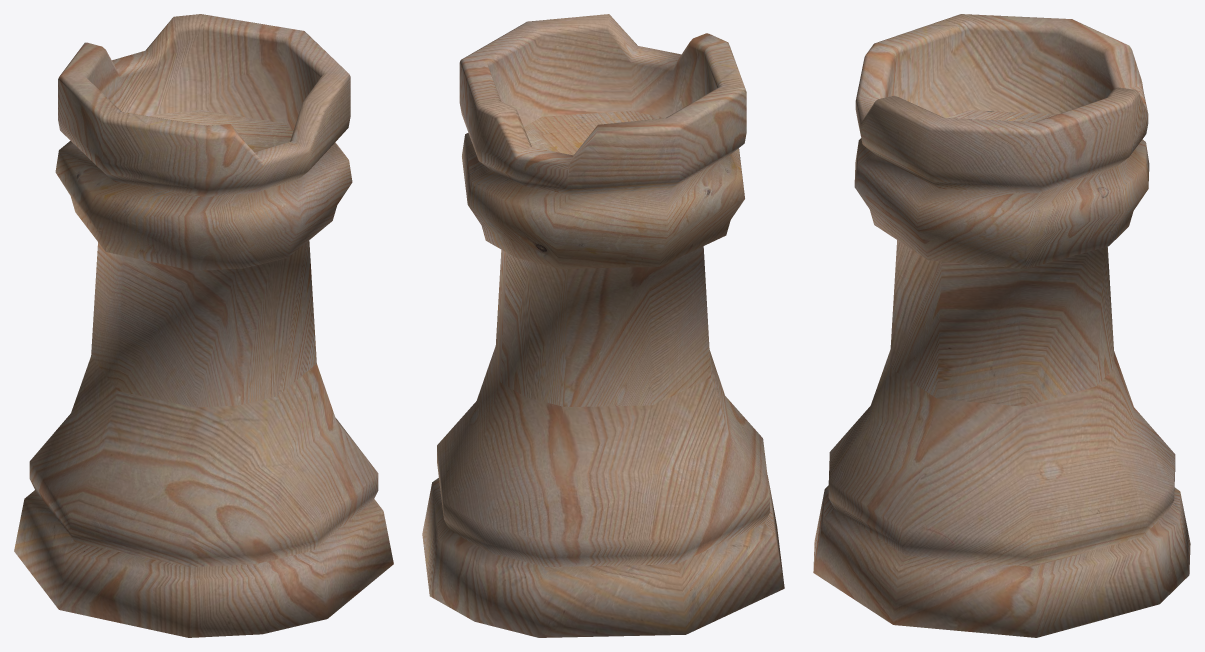
The model's file is rook_white.fbx.
The picture shows the model from 3 angles, left to right: view 1: azimuth 30°, elevation 25°; view 2: azimuth 150°, elevation 25°; view 3: azimuth 270°, elevation 25°; orthographic projection.
Parts seen in each view (by area): view 1: WhiteRook.001; view 2: WhiteRook.001; view 3: WhiteRook.001.
Boxes of the visible parts, bbox=[...] form: WhiteRook.001: bbox=[14, 14, 393, 637]; WhiteRook.001: bbox=[422, 14, 784, 637]; WhiteRook.001: bbox=[813, 14, 1190, 637].
Bounding box in the file's own units: 2.95 × 4.2 × 2.95.
1 material, 1 textured.
